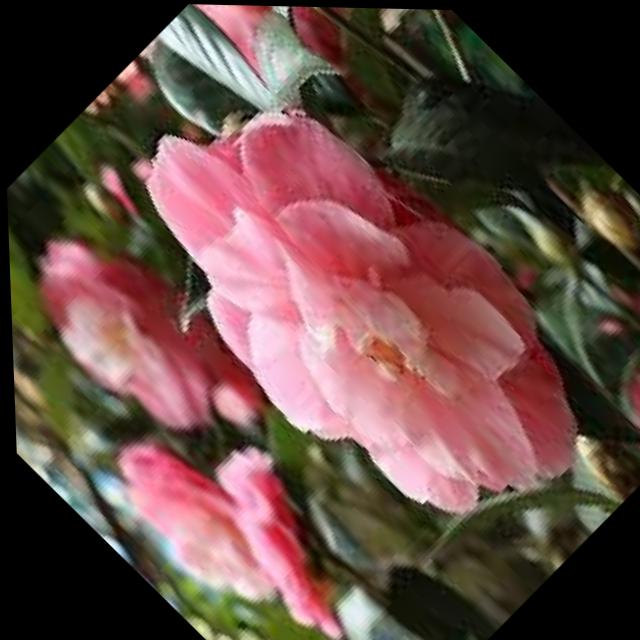Flower: (81, 37, 626, 577)
